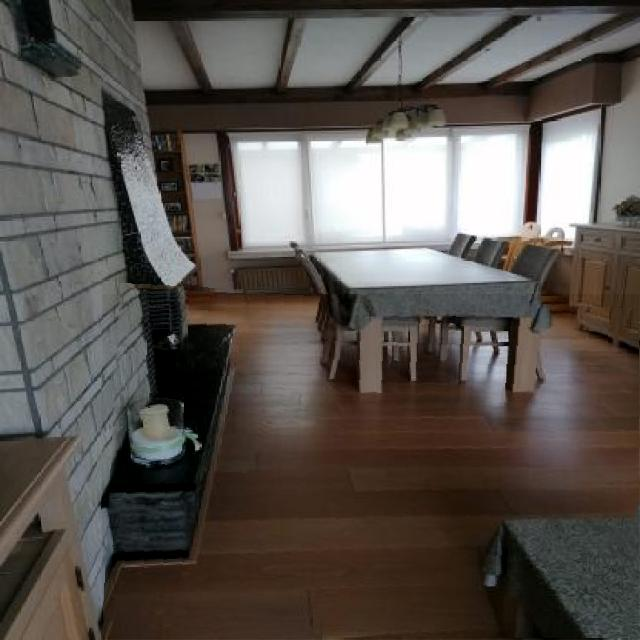floor: (103, 295, 640, 639)
